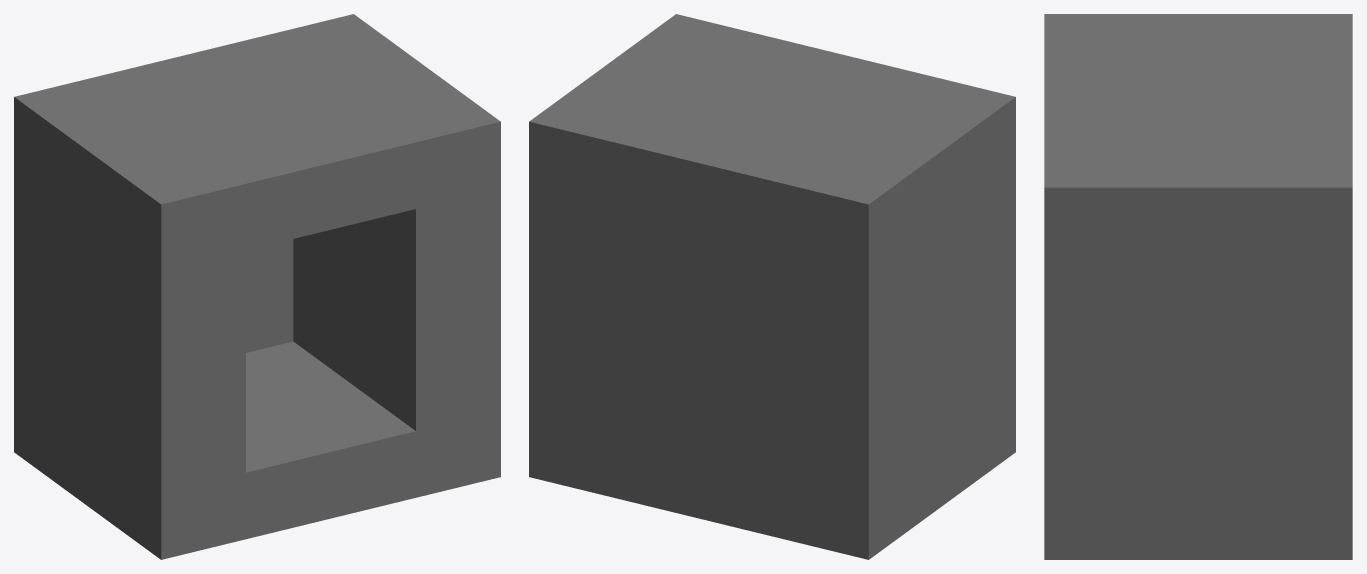
The model's file is hole.obj.
3 views of the same model, side by side, from view 1: azimuth 30°, elevation 25°; view 2: azimuth 150°, elevation 25°; view 3: azimuth 270°, elevation 25° (orthographic). The views are drawn at different scales.
Visible parts, largest first — view 1: hole; view 2: hole; view 3: hole.
Part boxes in pixels (box(x1,y1,x2,y2)): hole: box(14, 14, 500, 559); hole: box(529, 14, 1015, 559); hole: box(1044, 14, 1352, 559).
Bounding box in the file's own units: 0.08 × 0.08 × 0.06.
1 material, 1 textured.
